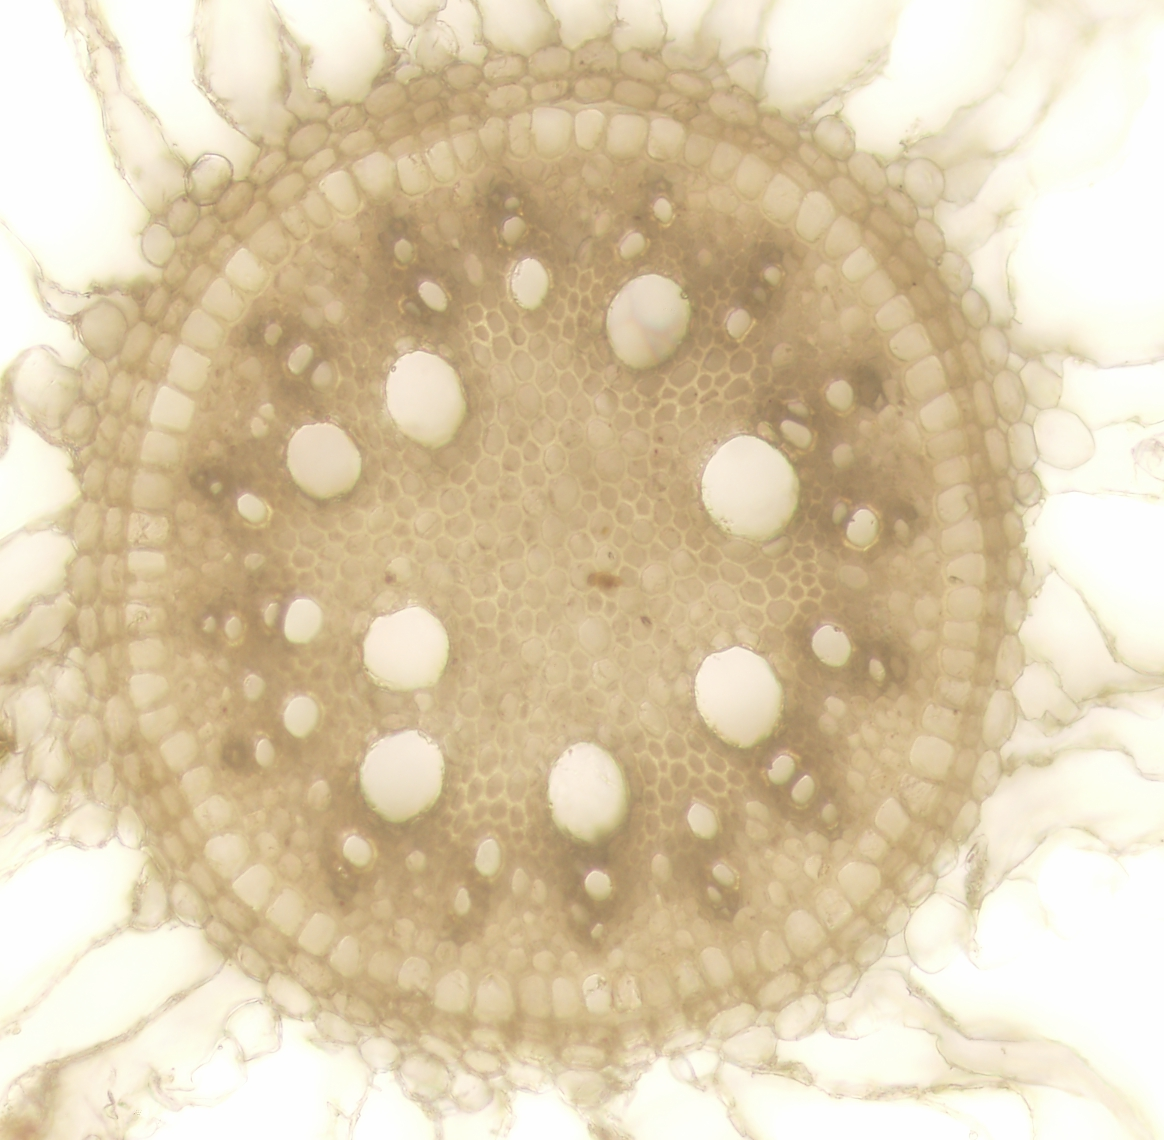lm: (699, 434, 800, 544), (694, 645, 784, 749), (546, 741, 628, 845), (604, 272, 692, 369), (384, 351, 468, 448), (359, 604, 450, 693), (356, 731, 445, 822), (284, 421, 364, 498)
